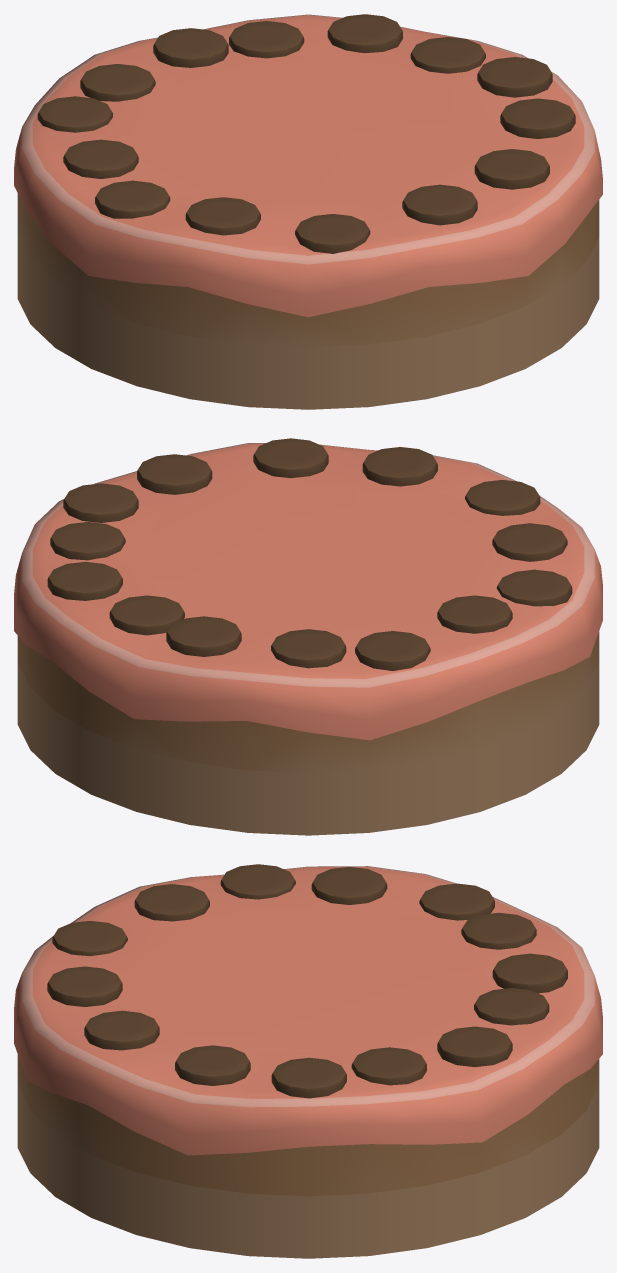
File: Pastel_2.FBX
3 views of the same model, one above another, from view 1: azimuth 30°, elevation 25°; view 2: azimuth 150°, elevation 25°; view 3: azimuth 270°, elevation 25° (orthographic).
Parts seen in each view (by area): view 1: Mediano; view 2: Mediano; view 3: Mediano.
Part boxes in pixels (x1=…): Mediano: x1=14, y1=14, x2=602, y2=409; Mediano: x1=14, y1=438, x2=602, y2=835; Mediano: x1=14, y1=864, x2=602, y2=1258.
Bounding box in the file's own units: 132 × 131 × 40.2.
